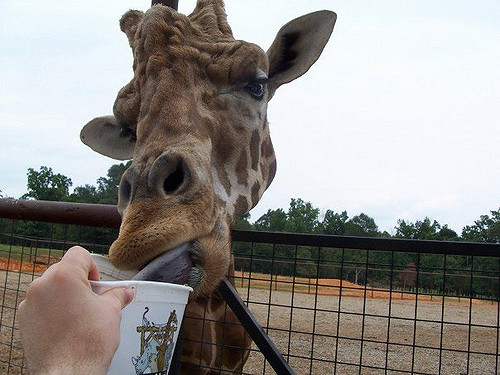giraffe: (94, 6, 372, 311)
